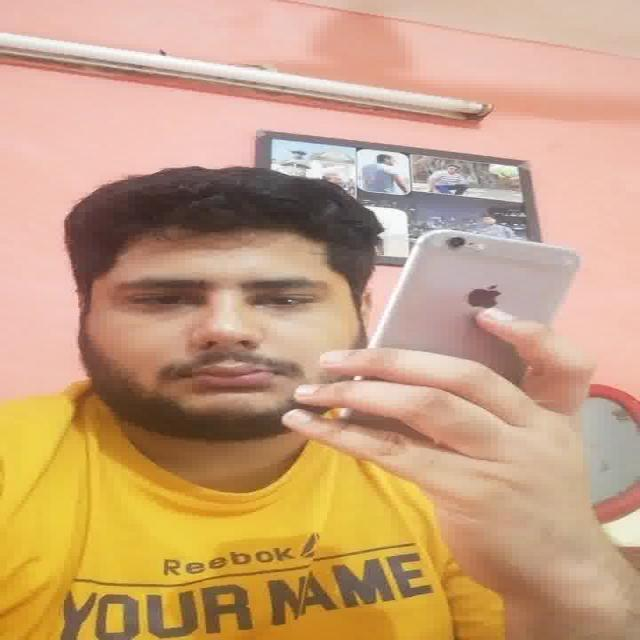phone: (314, 225, 584, 473)
